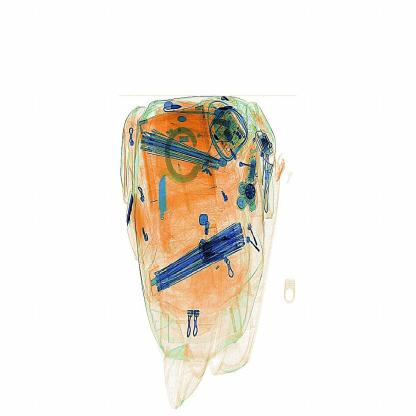wrench: (156, 178, 175, 258)
